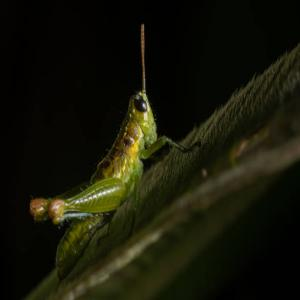locust: (31, 66, 167, 275)
